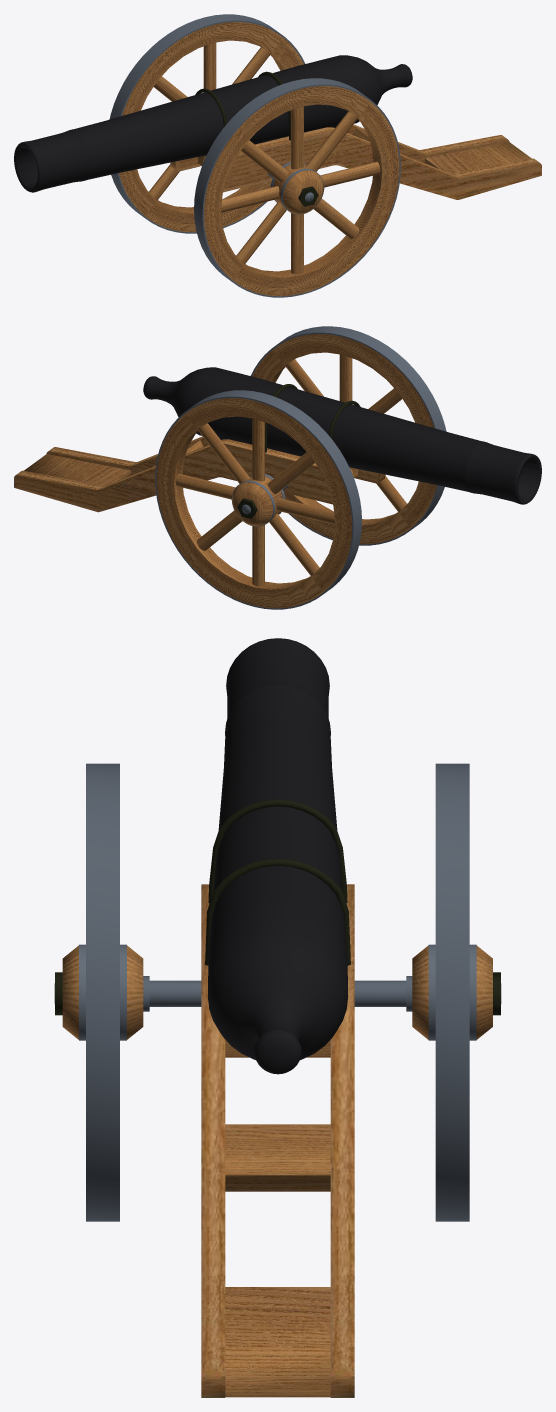
Rendered from canon_jouet.obj.
3 views of the same model, one above another, from view 1: azimuth 30°, elevation 25°; view 2: azimuth 150°, elevation 25°; view 3: azimuth 270°, elevation 25° (orthographic). The views are drawn at different scales.
Visible parts, largest first — view 1: Tube9_sep32_Tube9_sep32_default_1, Tube9_sep24_Tube9_sep24_cylinder1_auv6_1, Tube9_copy44_Tube9_copy44_Tube9_sep33_auv_1, Tube9_sep31_Tube9_sep31_cylinder1_auv6_1, Tube9_sep34_Tube9_sep34_default2_1, Tube9_sep25_Tube9_sep25_default2_1, cube1_copy41_cube1_copy41_cube1_auv2_1, Tube9_sep19_Tube9_sep19_cylinder1_auv_1, Tube9_sep20_Tube9_sep20_cylinder1_auv2_1, Tube9_sep22_Tube9_sep22_cylinder1_auv4_1, Tube9_sep33_Tube9_sep33_Tube9_sep33_auv_1, Tube9_sep21_Tube9_sep21_cylinder1_auv3_1 (+4 smaller); view 2: Tube9_sep32_Tube9_sep32_default_1, Tube9_sep31_Tube9_sep31_cylinder1_auv6_1, Tube9_sep33_Tube9_sep33_Tube9_sep33_auv_1, Tube9_sep24_Tube9_sep24_cylinder1_auv6_1, Tube9_sep25_Tube9_sep25_default2_1, Tube9_sep34_Tube9_sep34_default2_1, cube1_copy41_cube1_copy41_cube1_auv2_1, Tube9_sep26_Tube9_sep26_cylinder1_auv_1, Tube9_sep27_Tube9_sep27_cylinder1_auv2_1, Tube9_sep29_Tube9_sep29_cylinder1_auv4_1, Tube9_copy44_Tube9_copy44_Tube9_sep33_auv_1, Tube9_sep28_Tube9_sep28_cylinder1_auv3_1 (+4 smaller); view 3: Tube9_sep32_Tube9_sep32_default_1, Tube9_sep25_Tube9_sep25_default2_1, Tube9_sep34_Tube9_sep34_default2_1, cube1_copy41_cube1_copy41_cube1_auv2_1, Tube9_copy44_Tube9_copy44_Tube9_sep33_auv_1, Tube9_sep33_Tube9_sep33_Tube9_sep33_auv_1, cube1_copy43_cube1_copy43_cube1_auv2_1, Tube9_Tube9_default3_1, Tube9_sep30_Tube9_sep30_cylinder1_auv5_1, Tube9_sep23_Tube9_sep23_cylinder1_auv5_1, torus51_copy53_torus51_copy53_default_1, torus51_torus51_default_1.
Part boxes in pixels (<box>): Tube9_sep32_Tube9_sep32_default_1: <box>14,55,412,192</box>; Tube9_sep24_Tube9_sep24_cylinder1_auv6_1: <box>204,86,399,296</box>; Tube9_copy44_Tube9_copy44_Tube9_sep33_auv_1: <box>202,127,541,199</box>; Tube9_sep31_Tube9_sep31_cylinder1_auv6_1: <box>119,22,303,232</box>; Tube9_sep34_Tube9_sep34_default2_1: <box>194,78,400,297</box>; Tube9_sep25_Tube9_sep25_default2_1: <box>109,14,305,233</box>; cube1_copy41_cube1_copy41_cube1_auv2_1: <box>425,142,531,173</box>; Tube9_sep19_Tube9_sep19_cylinder1_auv_1: <box>236,111,357,264</box>; Tube9_sep20_Tube9_sep20_cylinder1_auv2_1: <box>221,161,380,212</box>; Tube9_sep22_Tube9_sep22_cylinder1_auv4_1: <box>291,106,303,274</box>; Tube9_sep33_Tube9_sep33_Tube9_sep33_auv_1: <box>170,124,509,171</box>; Tube9_sep21_Tube9_sep21_cylinder1_auv3_1: <box>241,140,358,238</box>; Tube9_sep32_Tube9_sep32_default_1: <box>143,367,541,504</box>; Tube9_sep31_Tube9_sep31_cylinder1_auv6_1: <box>156,398,352,608</box>; Tube9_sep33_Tube9_sep33_Tube9_sep33_auv_1: <box>14,439,353,512</box>; Tube9_sep24_Tube9_sep24_cylinder1_auv6_1: <box>252,334,436,544</box>; Tube9_sep25_Tube9_sep25_default2_1: <box>155,390,361,609</box>; Tube9_sep34_Tube9_sep34_default2_1: <box>250,326,446,545</box>; cube1_copy41_cube1_copy41_cube1_auv2_1: <box>24,454,130,485</box>; Tube9_sep26_Tube9_sep26_cylinder1_auv_1: <box>198,423,319,576</box>; Tube9_sep27_Tube9_sep27_cylinder1_auv2_1: <box>175,473,334,524</box>; Tube9_sep29_Tube9_sep29_cylinder1_auv4_1: <box>252,418,264,586</box>; Tube9_copy44_Tube9_copy44_Tube9_sep33_auv_1: <box>46,436,385,483</box>; Tube9_sep28_Tube9_sep28_cylinder1_auv3_1: <box>197,452,314,550</box>; Tube9_sep32_Tube9_sep32_default_1: <box>207,638,348,1074</box>; Tube9_sep25_Tube9_sep25_default2_1: <box>435,763,469,1221</box>; Tube9_sep34_Tube9_sep34_default2_1: <box>86,763,119,1221</box>; cube1_copy41_cube1_copy41_cube1_auv2_1: <box>225,1287,330,1397</box>; Tube9_copy44_Tube9_copy44_Tube9_sep33_auv_1: <box>201,884,225,1397</box>; Tube9_sep33_Tube9_sep33_Tube9_sep33_auv_1: <box>330,884,354,1397</box>; cube1_copy43_cube1_copy43_cube1_auv2_1: <box>225,1124,330,1191</box>; Tube9_Tube9_default3_1: <box>54,976,501,1011</box>; Tube9_sep30_Tube9_sep30_cylinder1_auv5_1: <box>412,945,492,1039</box>; Tube9_sep23_Tube9_sep23_cylinder1_auv5_1: <box>62,945,143,1039</box>; torus51_copy53_torus51_copy53_default_1: <box>205,858,350,965</box>; torus51_torus51_default_1: <box>208,799,347,903</box>.
Bounding box in the file's own units: 29.16 × 11.66 × 11.36.
